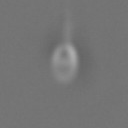normal: (49, 1, 85, 40)
